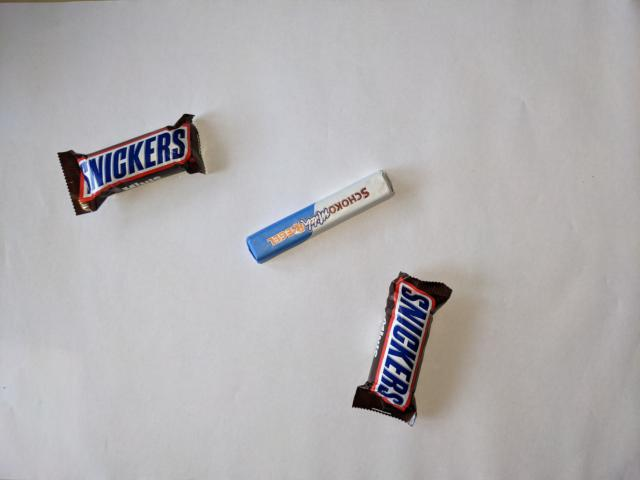Schokoriegel: (243, 168, 398, 267)
Snickers: (348, 270, 455, 429), (55, 111, 209, 218)
